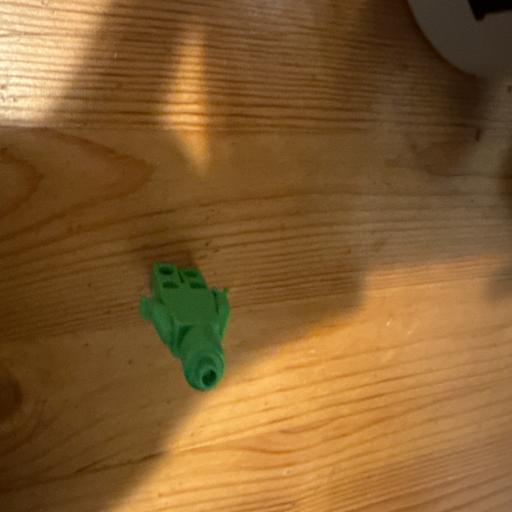Minifig: (140, 263, 230, 390)
